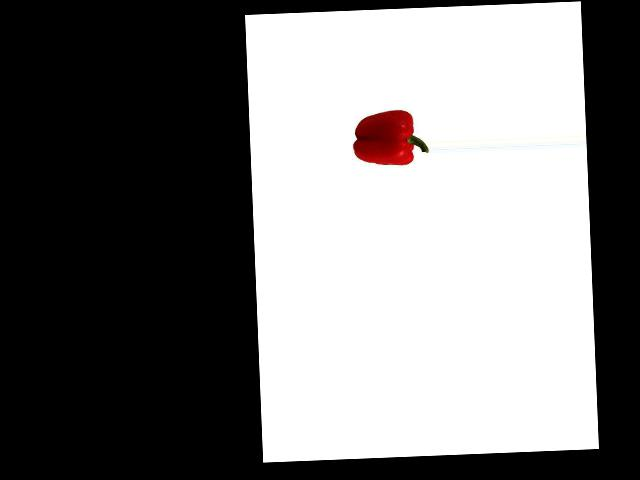bell_pepper: (351, 101, 428, 169)
